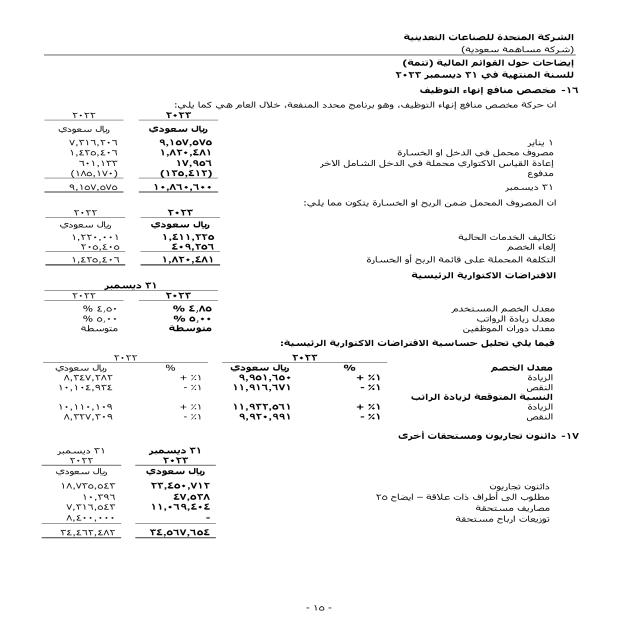notes: (379, 56, 582, 71)
table: (30, 349, 401, 430), (33, 438, 209, 572), (33, 108, 224, 195), (31, 205, 222, 274), (32, 279, 218, 339)
